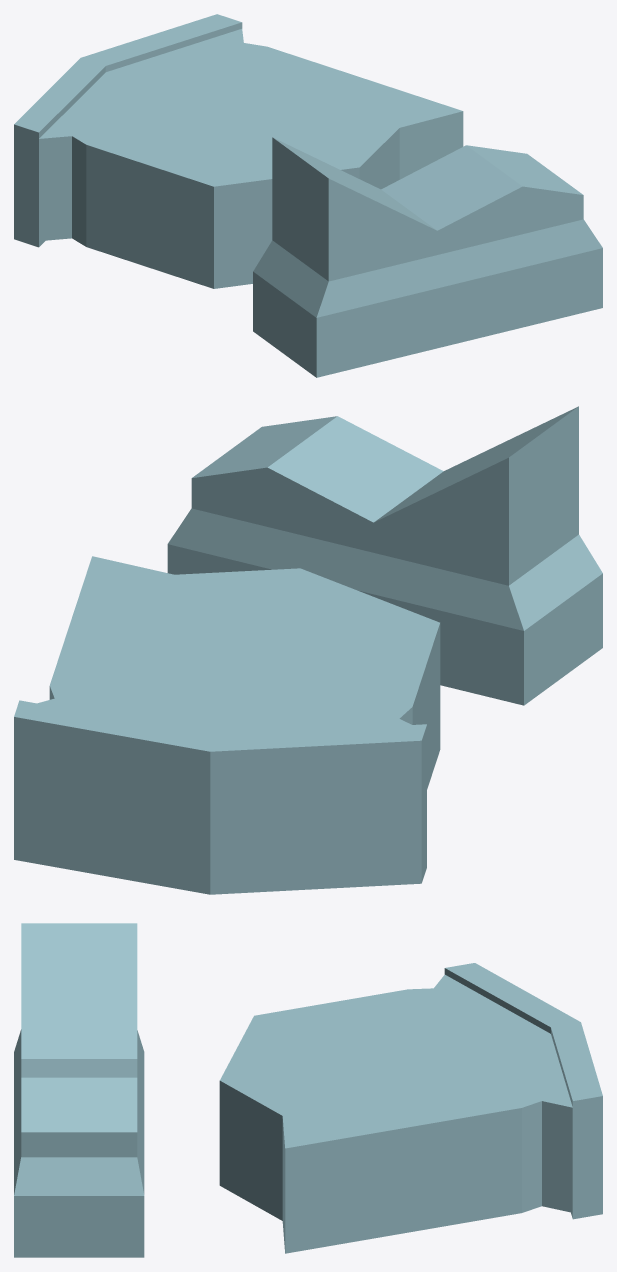
Rendered from gravestoneDebris.dae.
The picture shows the model from 3 angles, top to bottom: view 1: azimuth 30°, elevation 25°; view 2: azimuth 150°, elevation 25°; view 3: azimuth 270°, elevation 25°; orthographic projection. The views are drawn at different scales.
Visible parts, largest first — view 1: gravestoneDebris; view 2: gravestoneDebris; view 3: gravestoneDebris.
Boxes of the visible parts, left/top/right/bottom form: gravestoneDebris: left=14, top=14, right=602, bottom=377; gravestoneDebris: left=14, top=406, right=602, bottom=894; gravestoneDebris: left=14, top=923, right=602, bottom=1257.
Bounding box in the file's own units: 0.4968 × 0.2592 × 0.6751.
